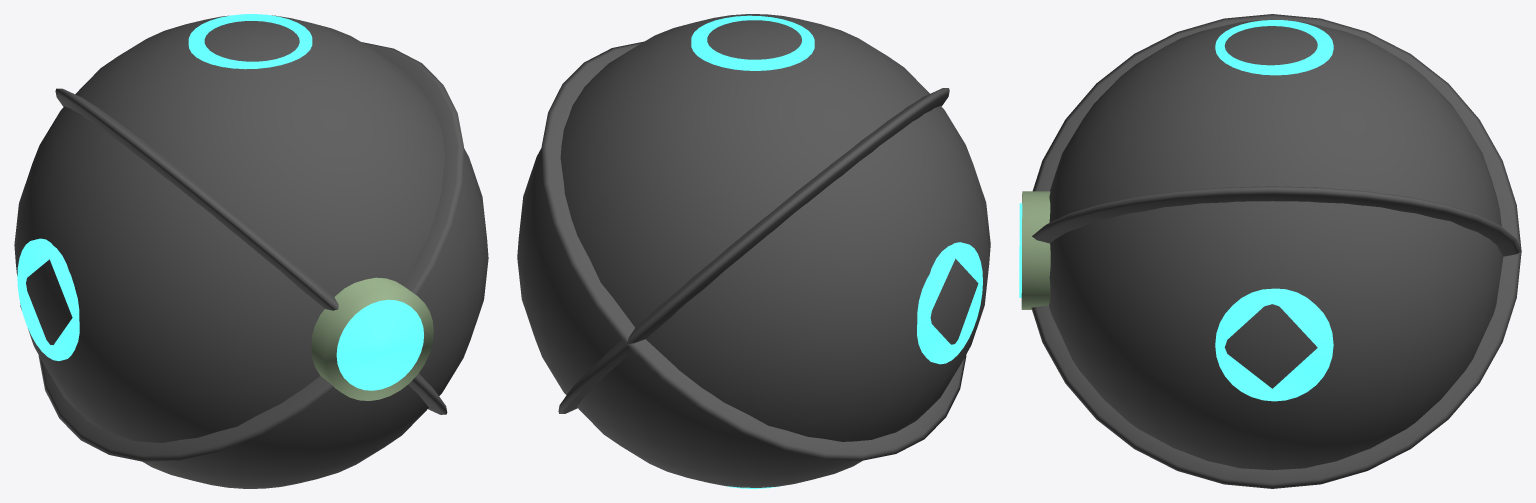
The model's file is escudo.fbx.
The picture shows the model from 3 angles, left to right: view 1: azimuth 30°, elevation 25°; view 2: azimuth 150°, elevation 25°; view 3: azimuth 270°, elevation 25°; orthographic projection. The views are drawn at different scales.
Parts seen in each view (by area): view 1: Sphere.005, Sphere.007, Sphere.006, Cylinder.025, Cylinder.022, Cylinder.024, Cylinder.023; view 2: Sphere.005, Sphere.007, Sphere.006, Cylinder.024, Cylinder.023; view 3: Sphere.005, Sphere.006, Sphere.007, Cylinder.024, Cylinder.022, Cylinder.023.
Boxes of the visible parts, box(x1,y1,x2,y2) form: Sphere.005: box(14, 15, 488, 488); Sphere.007: box(38, 42, 463, 461); Sphere.006: box(55, 88, 447, 414); Cylinder.025: box(336, 299, 423, 390); Cylinder.022: box(311, 277, 433, 400); Cylinder.024: box(17, 238, 79, 360); Cylinder.023: box(188, 14, 312, 69); Sphere.005: box(517, 14, 990, 487); Sphere.007: box(541, 41, 966, 460); Sphere.006: box(558, 88, 949, 413); Cylinder.024: box(917, 242, 982, 364); Cylinder.023: box(691, 15, 814, 488); Sphere.005: box(1049, 19, 1503, 470); Sphere.006: box(1031, 14, 1521, 488); Sphere.007: box(1032, 186, 1521, 256); Cylinder.024: box(1215, 288, 1333, 401); Cylinder.022: box(1021, 191, 1050, 309); Cylinder.023: box(1215, 20, 1333, 75).
Bounding box in the file's own units: 200 × 200 × 216.
